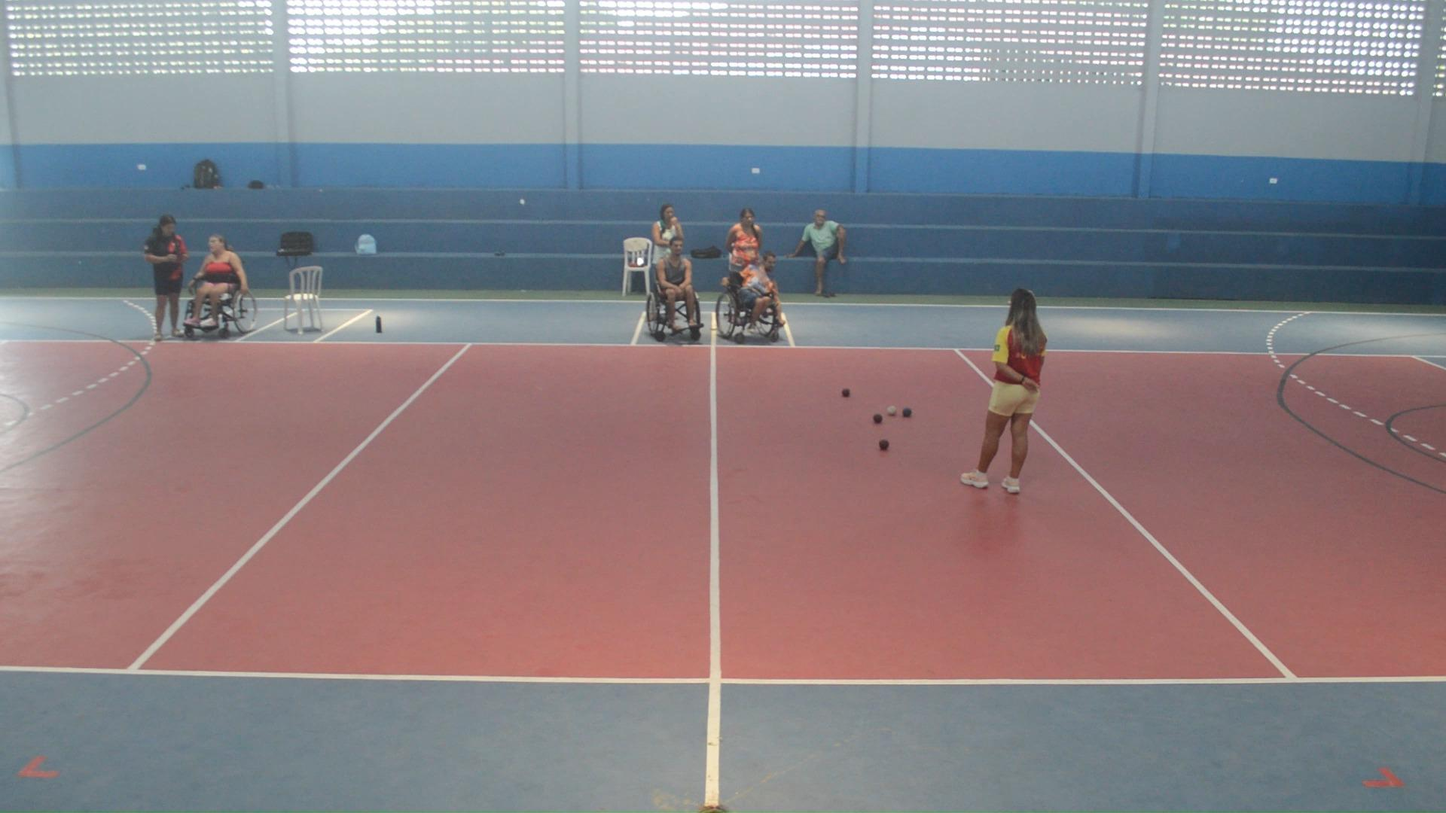blue_ball: (901, 406, 913, 418)
red_ball: (878, 438, 890, 451), (872, 413, 883, 424), (841, 387, 851, 398)
white_ball: (886, 405, 898, 417)
